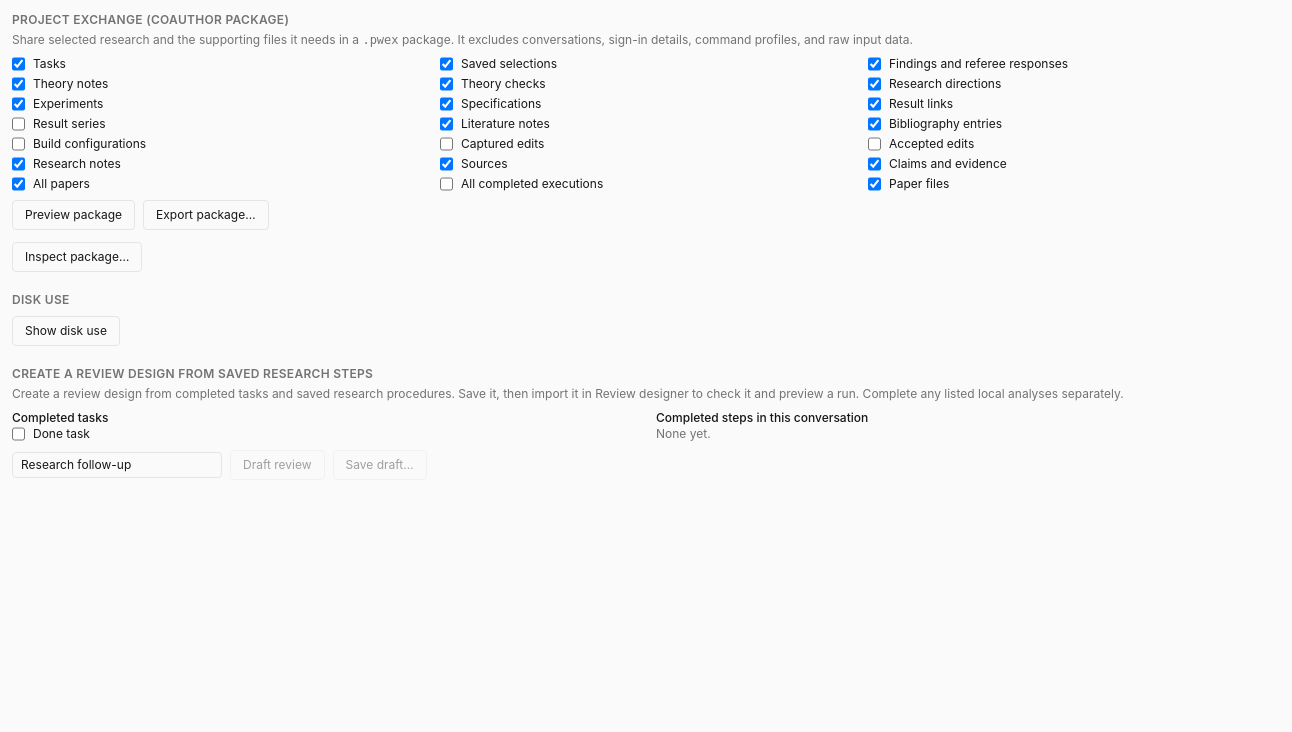
it: previews a package with the selected kinds and all papers, never conversations
The image size is (1292, 732).
Expected: the text "Done task" is shown, [33,426,90,442]
Click the checkbox labelled "Accepted edits": point(874, 144) [868,136,881,152]
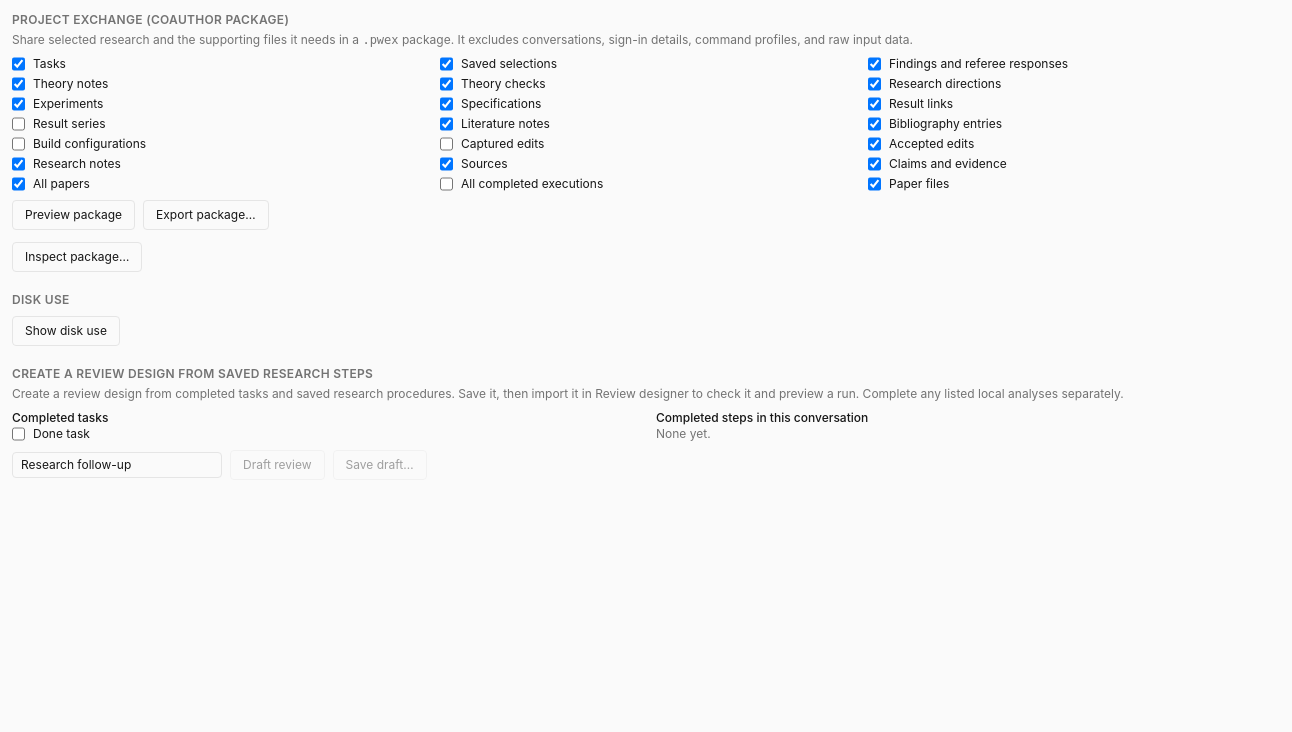
Click the button "Preview package": point(74, 215) [12,200,135,230]
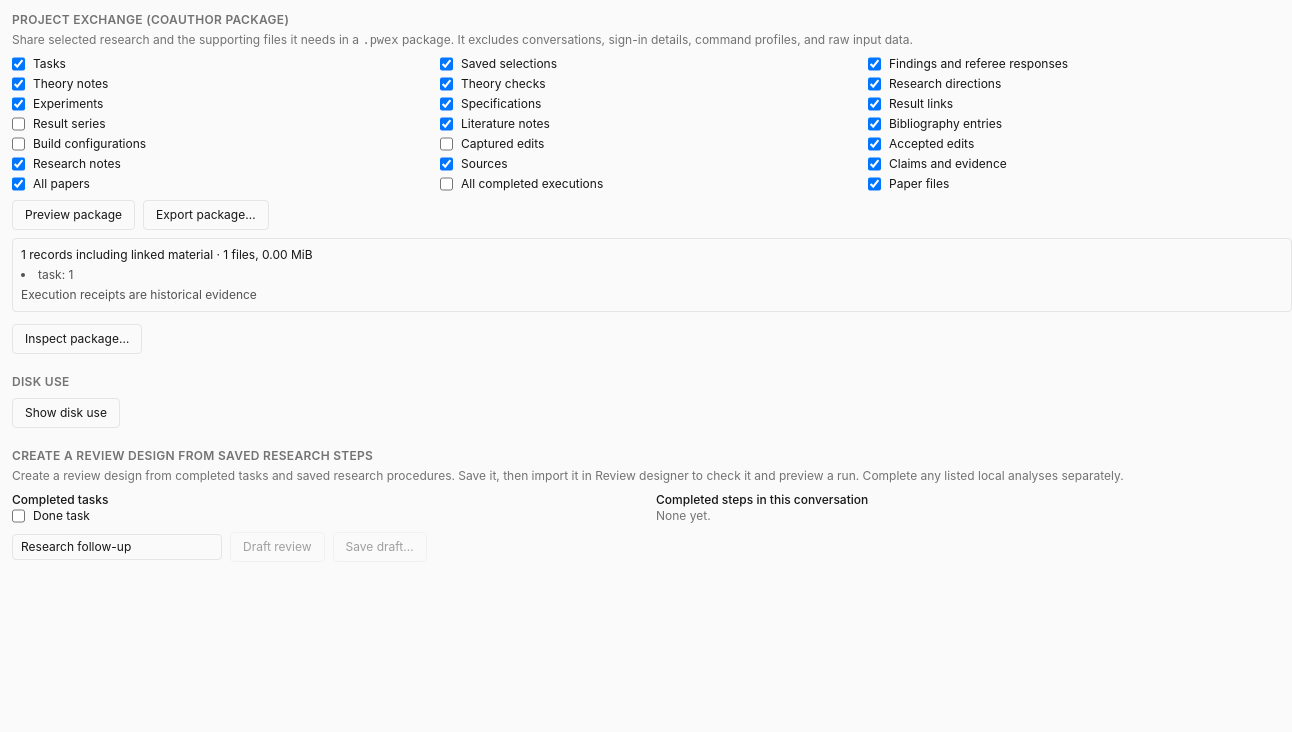
Result: the list item "task: 1" is shown at [38,267,73,282]
Result: the text "Execution receipts are historical evidence" is shown at [21,287,257,302]
